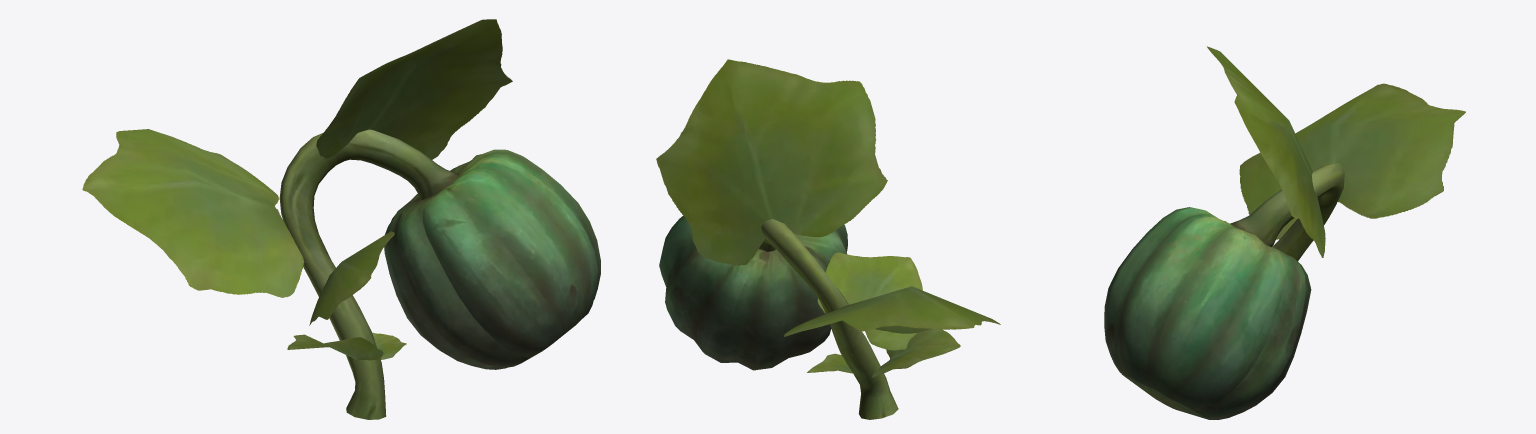
3 views of the same model, side by side, from view 1: azimuth 30°, elevation 25°; view 2: azimuth 150°, elevation 25°; view 3: azimuth 270°, elevation 25° (orthographic). The views are drawn at different scales.
Parts seen in each view (by area): view 1: SM_Melon_01v2_LOD0; view 2: SM_Melon_01v2_LOD0; view 3: SM_Melon_01v2_LOD0.
Boxes of the visible parts, bbox=[...] form: SM_Melon_01v2_LOD0: bbox=[82, 19, 600, 419]; SM_Melon_01v2_LOD0: bbox=[656, 59, 1000, 419]; SM_Melon_01v2_LOD0: bbox=[1104, 46, 1465, 419].
Bounding box in the file's own units: 1.08 × 0.8279 × 0.8241.
